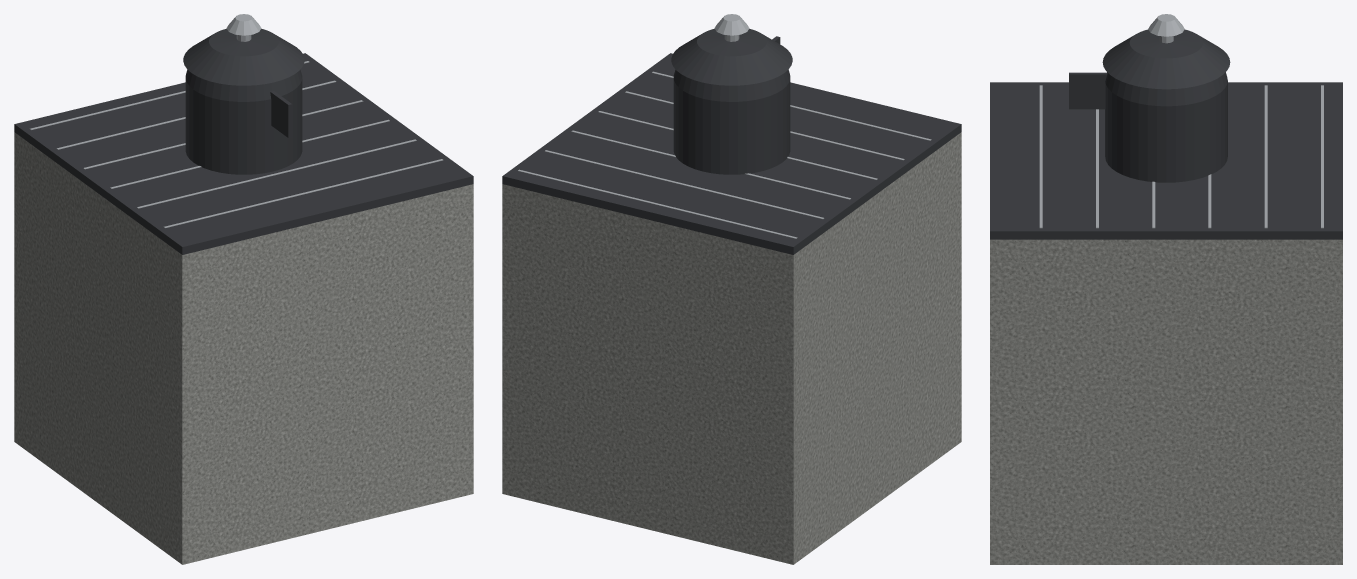
3 renders of one model, left to right at view 1: azimuth 30°, elevation 25°; view 2: azimuth 150°, elevation 25°; view 3: azimuth 270°, elevation 25°, orthographic. The views are drawn at different scales.
Visible parts, largest first — view 1: aboveGroundHeight=1;bodyDepth=2.4;bodyLength=2;bodyWidth=2;c (×3); view 2: aboveGroundHeight=1;bodyDepth=2.4;bodyLength=2;bodyWidth=2;c (×3); view 3: aboveGroundHeight=1;bodyDepth=2.4;bodyLength=2;bodyWidth=2;c (×3).
Boxes of the visible parts, left/top/right/bottom form: aboveGroundHeight=1;bodyDepth=2.4;bodyLength=2;bodyWidth=2;c (×3): left=14, top=14, right=473, bottom=564; aboveGroundHeight=1;bodyDepth=2.4;bodyLength=2;bodyWidth=2;c (×3): left=502, top=14, right=961, bottom=564; aboveGroundHeight=1;bodyDepth=2.4;bodyLength=2;bodyWidth=2;c (×3): left=990, top=14, right=1342, bottom=564.
Bounding box in the file's own units: 2.3 × 2.3 × 3.4.
3 materials, 1 textured.
